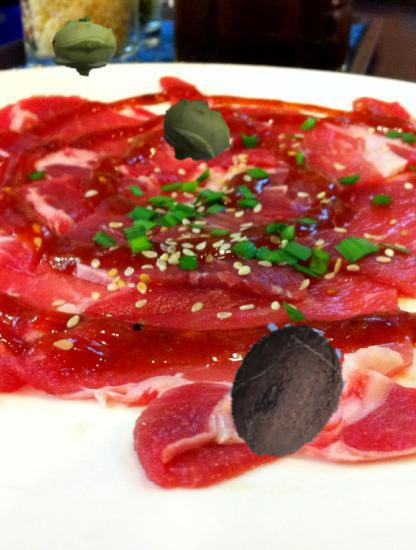Cocos: (216, 322, 354, 460)
Kohlrabi: (159, 95, 235, 171), (51, 12, 118, 79)
